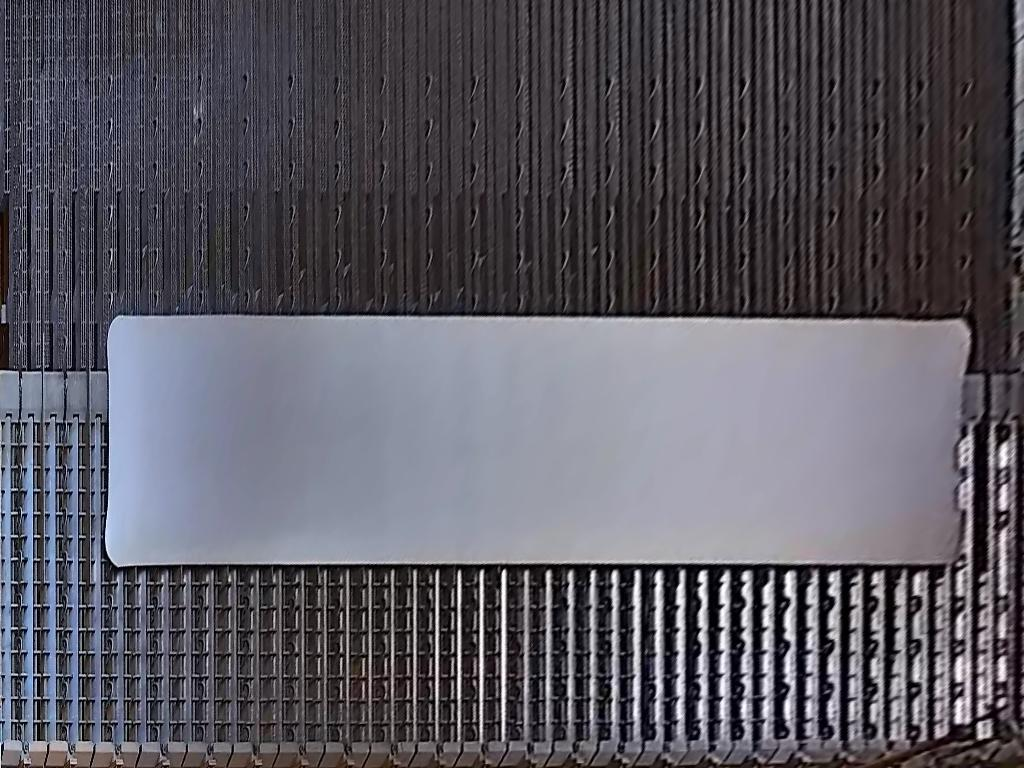steel: (105, 315, 973, 566)
